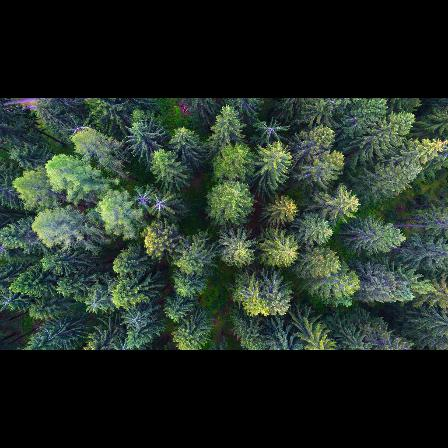Sick: (250, 116, 291, 143), (117, 309, 144, 335), (151, 192, 175, 215), (131, 187, 155, 208)
